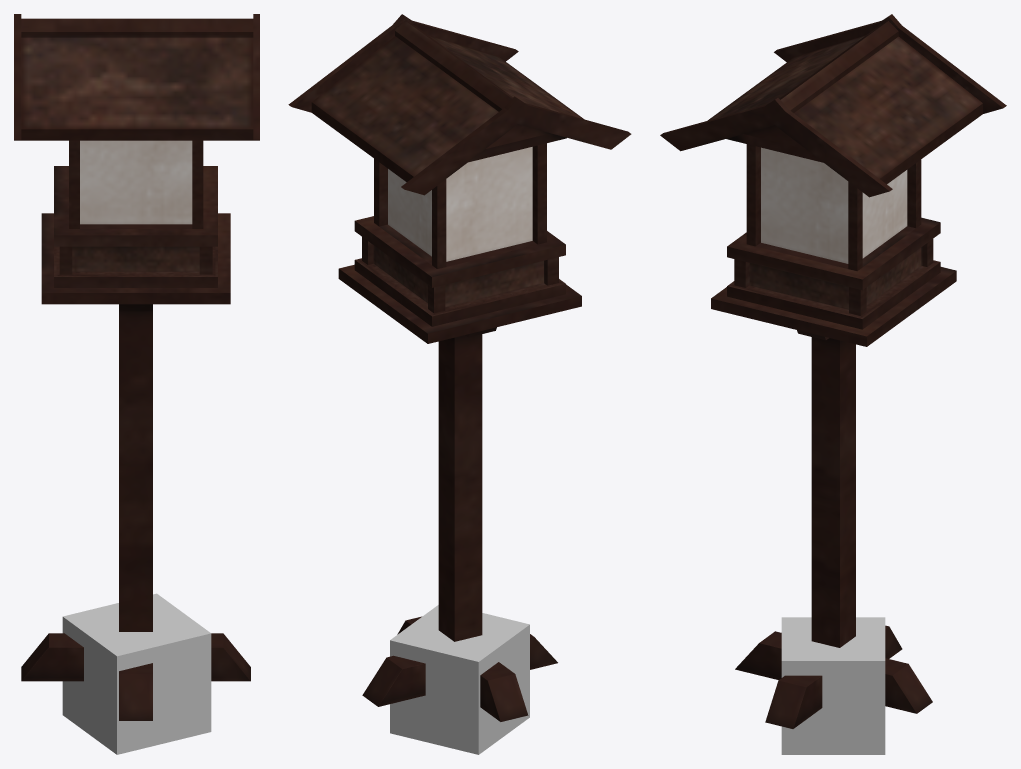
File: Linterna.obj
3 views of the same model, side by side, from view 1: azimuth 30°, elevation 25°; view 2: azimuth 150°, elevation 25°; view 3: azimuth 270°, elevation 25° (orthographic). The views are drawn at different scales.
Visible parts, largest first — view 1: Lantern, Cube; view 2: Lantern, Cube; view 3: Lantern, Cube.
Part boxes in pixels (x1=…): Lantern: x1=14, y1=14, x2=259, y2=720; Cube: x1=62, y1=593, x2=211, y2=754; Lantern: x1=288, y1=14, x2=631, y2=721; Cube: x1=390, y1=605, x2=529, y2=754; Lantern: x1=660, y1=14, x2=1006, y2=728; Cube: x1=781, y1=617, x2=885, y2=754.
Size of the model in its own units: 6.47 by 14.39 by 6.69.
